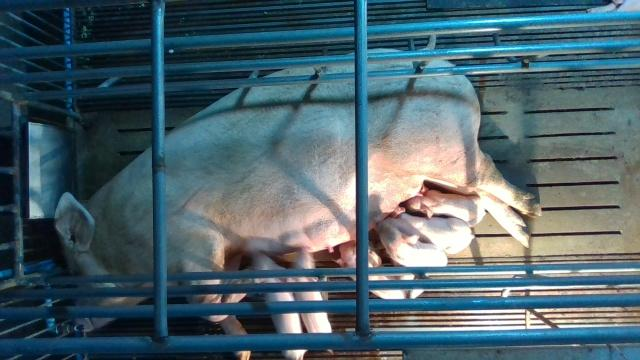piglet: (247, 252, 307, 360), (289, 253, 338, 356), (335, 238, 413, 299), (391, 212, 476, 255), (399, 184, 485, 226), (376, 218, 448, 268)
sow-sleep-lactate: (55, 60, 542, 360)
